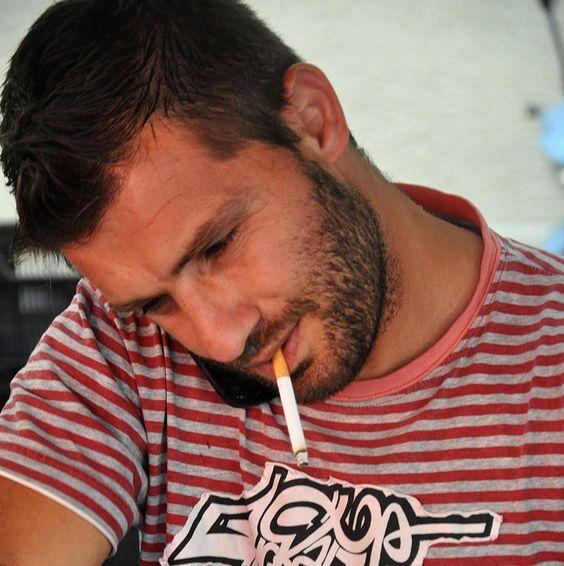cigarette: (272, 346, 309, 467)
